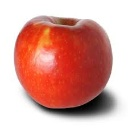apple: (14, 14, 113, 110)
